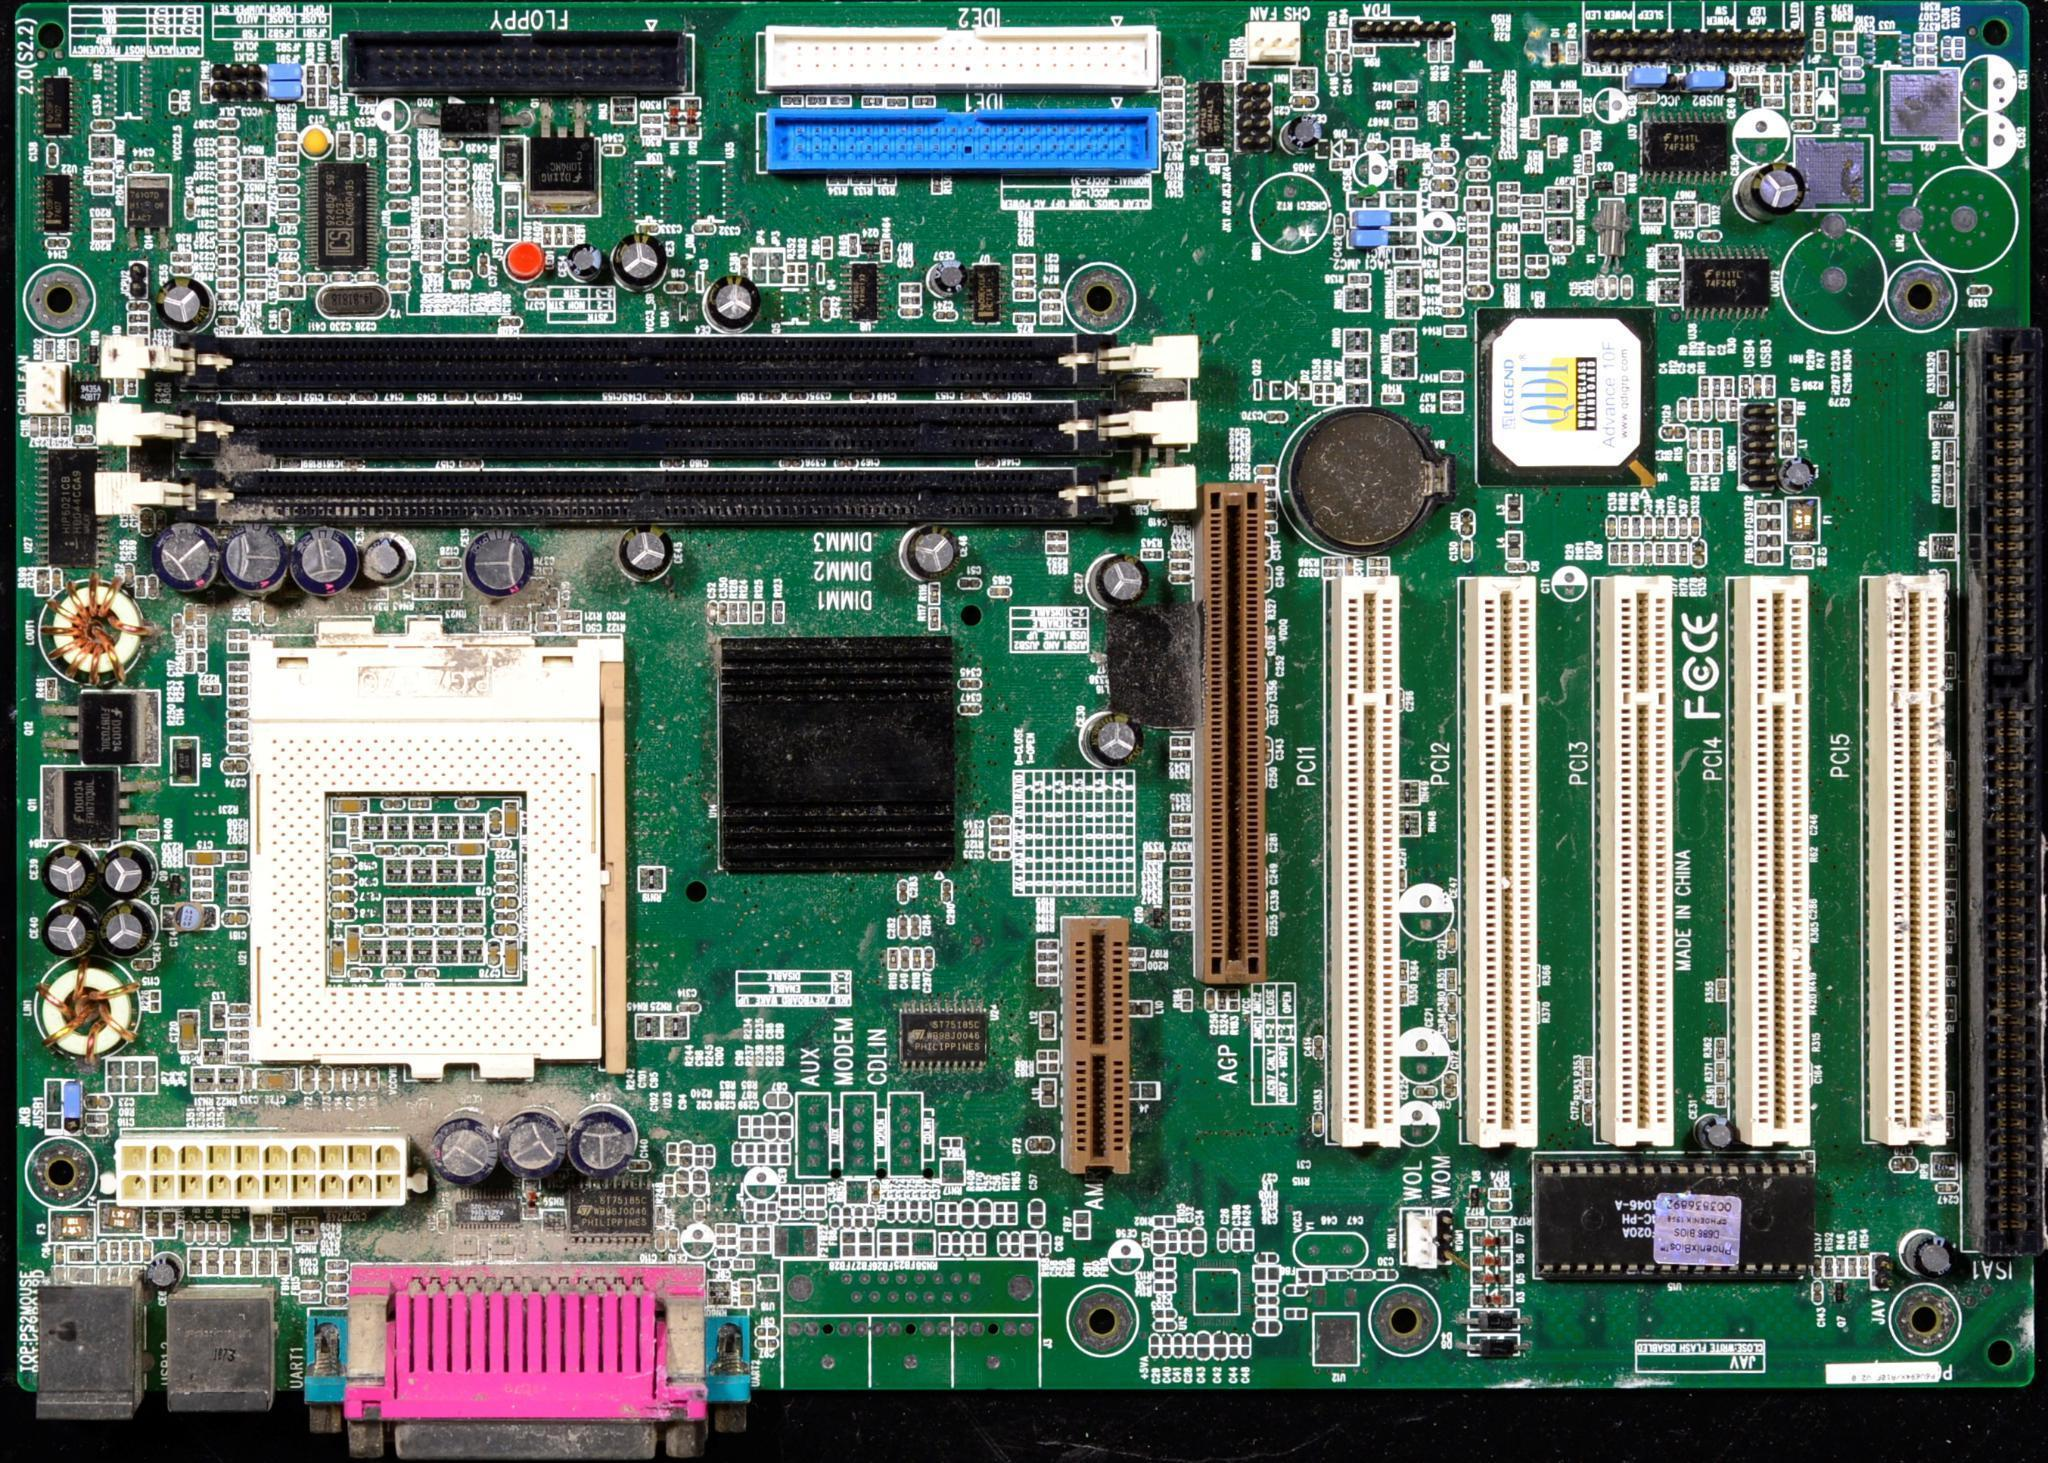Capacitor: (224, 909, 250, 929), (1890, 1154, 1917, 1171), (1289, 94, 1320, 108), (1025, 1137, 1054, 1152), (1660, 423, 1684, 442), (1194, 1333, 1211, 1358), (1189, 1225, 1205, 1252), (1690, 541, 1706, 568), (139, 509, 154, 536), (1460, 509, 1473, 536), (1213, 1332, 1226, 1358), (1466, 285, 1492, 300), (1460, 537, 1474, 563), (1150, 1230, 1167, 1254), (84, 1096, 112, 1109), (1433, 151, 1458, 164), (1430, 178, 1456, 192), (185, 887, 209, 901), (1810, 1282, 1825, 1307), (987, 586, 1012, 600), (1179, 1227, 1191, 1252), (1011, 276, 1036, 288), (1619, 273, 1631, 297), (1338, 52, 1352, 74), (84, 1124, 107, 1137), (957, 574, 981, 588), (956, 703, 980, 715), (1933, 1179, 1960, 1191), (213, 117, 240, 128), (1690, 515, 1702, 541), (895, 917, 909, 938), (328, 65, 340, 87), (191, 866, 214, 878), (1203, 988, 1216, 1010), (1314, 1034, 1325, 1059), (1488, 1198, 1513, 1210), (1153, 1318, 1179, 1328), (1239, 1332, 1251, 1357), (1160, 1336, 1173, 1359), (1605, 513, 1616, 538), (706, 602, 718, 624), (987, 849, 1011, 859), (941, 880, 952, 904), (1447, 992, 1457, 1016), (1148, 1332, 1158, 1355), (386, 134, 410, 145), (1254, 465, 1277, 476), (896, 882, 908, 902), (127, 162, 154, 171), (635, 225, 661, 234), (1446, 930, 1457, 952), (1438, 101, 1449, 123), (94, 118, 115, 130), (1376, 1268, 1397, 1279), (1365, 141, 1387, 152), (604, 143, 627, 153), (385, 157, 407, 168), (446, 158, 468, 169), (275, 185, 298, 196), (183, 195, 194, 217), (1550, 243, 1572, 253), (1595, 275, 1606, 298), (1678, 399, 1688, 421), (1264, 411, 1287, 423), (1169, 546, 1191, 558), (899, 947, 909, 972), (1169, 1334, 1183, 1354), (1464, 156, 1490, 166), (278, 166, 297, 179), (1697, 233, 1722, 242), (1642, 516, 1654, 535), (908, 919, 920, 939), (1353, 1268, 1374, 1279), (1328, 1269, 1349, 1279), (1227, 1333, 1237, 1353), (387, 146, 409, 157), (92, 161, 113, 173), (448, 182, 469, 193), (278, 237, 299, 249), (46, 238, 67, 248), (820, 298, 831, 319), (1678, 516, 1689, 536), (988, 815, 1012, 825), (1447, 1020, 1456, 1043), (1466, 170, 1490, 179), (1441, 306, 1464, 315), (1754, 374, 1763, 397), (276, 131, 298, 141), (1162, 131, 1184, 141), (441, 138, 463, 148), (219, 148, 237, 158), (449, 204, 468, 216), (218, 206, 237, 217), (1700, 205, 1709, 226), (276, 214, 298, 223), (449, 229, 468, 240), (478, 255, 489, 274), (275, 261, 298, 270), (449, 269, 472, 279), (277, 273, 299, 282), (1608, 276, 1618, 298), (664, 284, 687, 293), (1967, 285, 1990, 295), (1039, 288, 1060, 298), (72, 433, 93, 442), (1170, 572, 1188, 582), (1327, 55, 1338, 74), (197, 650, 206, 673), (1841, 68, 1863, 78), (932, 310, 957, 319), (1584, 1102, 1593, 1123), (217, 184, 238, 193), (448, 194, 469, 204), (219, 217, 239, 227), (692, 223, 713, 232), (358, 273, 378, 282), (1702, 401, 1711, 421), (1156, 1308, 1179, 1316), (216, 137, 239, 145), (1431, 165, 1455, 173), (899, 308, 922, 317), (1913, 45, 1937, 53), (1839, 58, 1863, 66), (1218, 1228, 1228, 1248), (447, 171, 465, 180), (448, 217, 467, 226), (220, 231, 239, 240), (306, 274, 324, 283), (28, 416, 38, 436), (924, 945, 932, 968), (170, 90, 178, 113), (1314, 1113, 1321, 1135), (385, 182, 407, 190), (1335, 213, 1344, 236), (217, 245, 239, 253), (331, 272, 353, 280), (216, 293, 238, 301), (127, 302, 149, 311), (1942, 36, 1950, 58), (1792, 546, 1813, 554), (1643, 543, 1651, 565), (956, 679, 978, 687), (173, 266, 190, 275), (1345, 558, 1354, 574), (354, 134, 362, 155), (47, 144, 56, 165), (217, 161, 238, 170), (217, 173, 238, 181), (217, 196, 237, 204), (447, 253, 467, 262), (217, 256, 237, 265), (422, 264, 443, 273), (282, 308, 289, 330), (217, 317, 237, 324), (1656, 516, 1663, 536), (1811, 1256, 1819, 1275), (388, 170, 406, 178), (449, 240, 468, 248), (218, 268, 237, 276), (1162, 79, 1184, 86), (1526, 269, 1548, 276), (192, 879, 209, 887), (1717, 401, 1725, 418), (1231, 1228, 1237, 1250), (1692, 430, 1699, 450), (1185, 1334, 1192, 1351), (722, 601, 727, 620)
Connector: (183, 456, 1195, 541), (321, 1243, 699, 1462), (1961, 320, 2048, 1246), (153, 328, 1195, 383), (164, 395, 1185, 450), (1724, 577, 1813, 1150), (1459, 579, 1545, 1151), (1592, 577, 1678, 1147), (1861, 580, 1945, 1142), (1335, 577, 1400, 1147), (1202, 482, 1265, 983), (123, 1125, 416, 1228), (758, 109, 1150, 174), (762, 33, 1170, 88), (357, 29, 673, 95), (1060, 915, 1132, 1173)
IC: (1531, 1153, 1811, 1283), (33, 448, 107, 567), (304, 164, 379, 271), (1682, 246, 1770, 320), (901, 998, 989, 1071), (1639, 114, 1725, 182), (1184, 1259, 1248, 1323), (1186, 80, 1233, 150), (1455, 71, 1500, 142), (35, 73, 80, 139), (966, 264, 1009, 327), (629, 162, 674, 221), (127, 175, 168, 241), (1312, 1311, 1360, 1363), (687, 164, 734, 217), (840, 263, 882, 323), (37, 173, 78, 231), (1865, 31, 1910, 65)
Resistor: (178, 1006, 201, 1052), (1462, 1213, 1487, 1228), (134, 826, 160, 840), (197, 681, 221, 695), (928, 581, 943, 604), (1325, 29, 1339, 52), (880, 239, 892, 264), (1487, 1184, 1510, 1198), (223, 849, 247, 861), (1790, 556, 1813, 568), (771, 601, 786, 621), (150, 985, 161, 1011), (1488, 1215, 1515, 1226), (1714, 979, 1728, 999), (1697, 376, 1711, 396), (1395, 80, 1420, 92), (910, 946, 921, 971), (1398, 959, 1410, 982), (1180, 988, 1193, 1010), (1580, 1078, 1592, 1100), (1844, 1254, 1857, 1276), (1856, 1255, 1869, 1278), (1834, 1257, 1847, 1279), (1547, 135, 1559, 157), (1935, 374, 1948, 396), (1723, 376, 1736, 397), (1427, 40, 1441, 62), (1565, 40, 1577, 65), (1629, 516, 1641, 539), (1712, 1040, 1726, 1060), (1150, 1212, 1174, 1223), (1396, 119, 1420, 130), (68, 338, 79, 361), (1439, 369, 1463, 380), (1382, 392, 1405, 403), (1044, 542, 1068, 553), (1506, 560, 1530, 571), (1520, 209, 1540, 221), (525, 287, 546, 300), (1040, 312, 1060, 324), (1142, 548, 1163, 560), (85, 1113, 112, 1123), (1398, 984, 1409, 1005), (639, 125, 662, 136), (1580, 129, 1591, 151), (1206, 154, 1228, 164), (1583, 152, 1594, 174), (553, 222, 563, 244), (541, 223, 552, 245), (1441, 246, 1462, 257), (900, 284, 922, 294), (1440, 294, 1463, 306), (1689, 398, 1700, 420), (1915, 56, 1938, 67), (1167, 882, 1191, 892), (1037, 936, 1056, 949), (1127, 946, 1146, 958), (1034, 951, 1059, 961), (898, 296, 922, 305), (1763, 376, 1775, 394), (1338, 30, 1350, 49), (1045, 531, 1070, 540), (751, 601, 765, 621), (1171, 867, 1191, 879), (1170, 893, 1190, 904), (887, 947, 898, 968), (1036, 963, 1058, 973), (1036, 972, 1057, 983), (1391, 138, 1402, 158), (277, 153, 298, 164), (422, 159, 443, 169), (92, 173, 112, 183), (850, 174, 870, 185), (1616, 173, 1627, 193), (92, 184, 113, 194), (1467, 185, 1487, 196), (848, 236, 859, 257), (1013, 255, 1034, 266), (1014, 267, 1035, 278), (1739, 375, 1751, 396), (1711, 452, 1722, 472), (1701, 453, 1712, 474), (1954, 37, 1965, 57), (1944, 484, 1954, 505), (1618, 516, 1628, 536), (1234, 61, 1245, 83), (224, 870, 248, 879), (225, 882, 248, 891), (1230, 988, 1240, 1011), (1162, 100, 1185, 110), (90, 219, 114, 228), (1012, 314, 1035, 323), (1173, 917, 1190, 930), (725, 603, 738, 621), (987, 826, 1009, 836), (306, 85, 317, 105), (1583, 1057, 1594, 1077), (639, 114, 662, 124), (1243, 1228, 1253, 1248), (276, 142, 298, 152), (876, 174, 895, 185), (422, 181, 442, 191), (423, 205, 442, 215), (421, 240, 443, 250), (1498, 243, 1517, 253), (1441, 260, 1462, 269), (738, 256, 747, 278), (1467, 271, 1489, 281), (1348, 274, 1370, 284), (1440, 281, 1460, 291), (43, 340, 54, 360), (1324, 382, 1334, 403), (1945, 440, 1954, 463), (1689, 452, 1698, 473), (1666, 515, 1676, 536), (1680, 542, 1688, 563), (1620, 544, 1631, 563), (1667, 544, 1677, 563), (1323, 566, 1342, 576), (183, 652, 195, 672), (1171, 748, 1190, 758), (1439, 404, 1464, 412), (200, 80, 209, 101), (1446, 969, 1456, 990), (1038, 1050, 1059, 1059), (1037, 1062, 1057, 1072), (1521, 195, 1542, 205), (1521, 221, 1542, 231), (1467, 223, 1487, 233), (93, 230, 114, 239), (1498, 231, 1518, 241), (1498, 267, 1518, 277), (787, 264, 796, 285), (1445, 327, 1466, 338), (1937, 350, 1947, 371), (1440, 390, 1461, 399), (40, 415, 49, 435), (307, 65, 316, 85), (316, 65, 326, 85), (1147, 849, 1165, 860), (930, 174, 941, 192), (1499, 253, 1517, 264), (1220, 60, 1232, 78), (1914, 35, 1937, 42), (1714, 1061, 1724, 1080), (1468, 214, 1488, 223), (1468, 248, 1488, 258), (423, 251, 441, 262), (1468, 261, 1488, 270), (1834, 30, 1854, 40), (1711, 376, 1721, 395), (1814, 31, 1824, 50), (1834, 42, 1854, 52), (1370, 555, 1389, 566), (1169, 561, 1189, 570), (1368, 566, 1386, 575), (1170, 736, 1188, 746), (1715, 1085, 1724, 1106), (1164, 121, 1185, 129), (1530, 117, 1539, 139), (824, 175, 847, 183), (277, 199, 299, 207), (822, 236, 829, 258), (1439, 270, 1461, 279), (127, 325, 148, 333), (1610, 543, 1617, 565), (1440, 42, 1450, 60), (194, 628, 204, 646), (1163, 90, 1184, 98), (1163, 113, 1184, 121), (1404, 138, 1412, 158), (566, 225, 575, 246), (1466, 237, 1486, 246), (169, 253, 190, 262), (1527, 257, 1548, 264), (798, 262, 806, 282), (1043, 303, 1063, 311), (1727, 400, 1735, 421), (930, 608, 939, 628), (1173, 909, 1192, 916), (421, 170, 440, 178), (423, 194, 441, 203), (1015, 291, 1034, 300), (126, 313, 145, 322), (1313, 384, 1322, 404), (61, 416, 70, 436), (1711, 431, 1721, 447), (1945, 465, 1954, 482), (1655, 543, 1663, 562), (186, 627, 194, 646), (229, 896, 247, 904), (1219, 990, 1226, 1007), (1632, 545, 1640, 562), (739, 602, 747, 619), (991, 837, 1011, 844), (1703, 429, 1709, 449), (1171, 815, 1187, 823), (1172, 826, 1189, 834), (1172, 850, 1188, 858), (1130, 959, 1146, 968), (219, 280, 235, 288), (1324, 557, 1341, 566), (1823, 1256, 1830, 1273)
Transistor: (56, 688, 160, 764), (39, 765, 127, 842), (527, 132, 600, 216), (778, 290, 809, 325), (166, 870, 187, 893), (815, 264, 832, 287), (1592, 177, 1612, 194), (1466, 1187, 1482, 1208), (693, 271, 705, 296), (88, 343, 100, 366), (861, 243, 880, 254), (1397, 100, 1417, 110)
